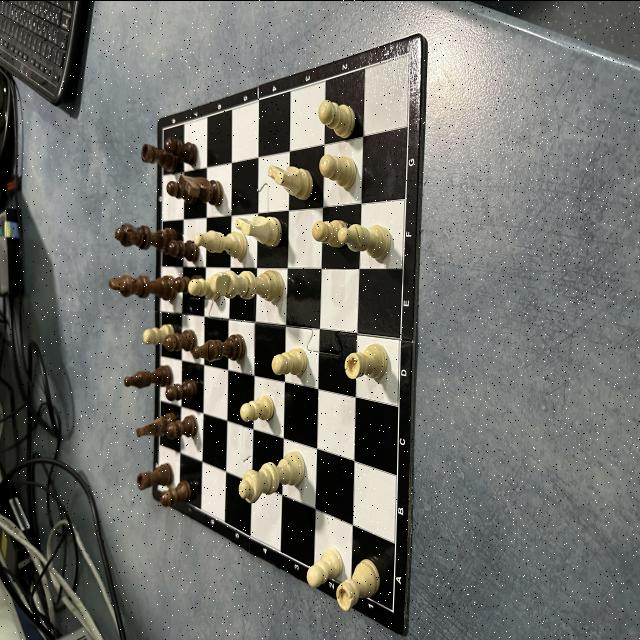Black-Bishop: (193, 334, 246, 362), (124, 365, 172, 388)
Black-King: (109, 274, 174, 300)
Black-Knight: (179, 174, 222, 206), (136, 412, 174, 436)
Black-Pawn: (165, 137, 197, 164), (162, 482, 192, 506), (168, 414, 198, 436), (166, 380, 196, 400), (164, 330, 194, 350), (169, 240, 197, 260), (166, 181, 182, 199), (174, 276, 190, 292)
Black-Queen: (114, 224, 174, 250)
Black-Rook: (136, 462, 172, 489), (142, 144, 172, 168)
White-Bishop: (338, 224, 391, 258), (195, 230, 246, 258)
White-King: (211, 268, 283, 302)
White-Knight: (268, 164, 312, 198), (235, 216, 281, 246)
White-Pawn: (318, 100, 355, 136), (306, 548, 341, 586), (320, 154, 356, 188), (272, 348, 308, 374), (312, 219, 346, 246), (240, 394, 274, 420), (188, 276, 220, 298), (143, 324, 173, 344)
White-Queen: (238, 451, 304, 501)
White-Rook: (336, 558, 380, 609), (344, 344, 388, 379)
